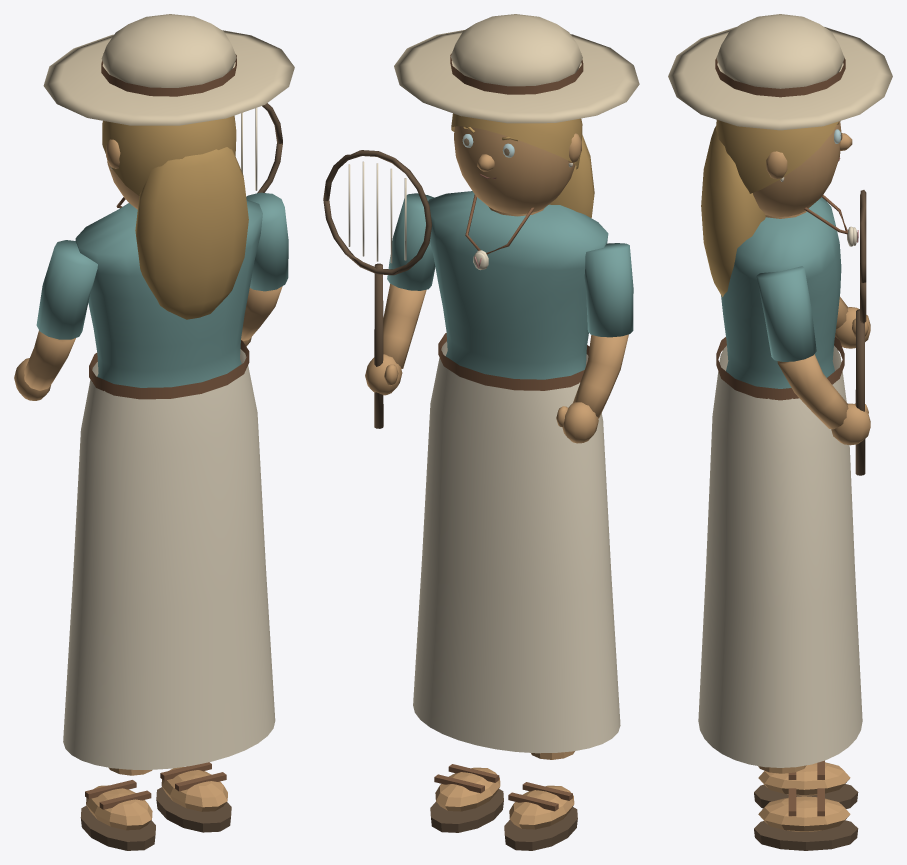
File: SM_NPC_OLA.glb
The picture shows the model from 3 angles, left to right: view 1: azimuth 30°, elevation 25°; view 2: azimuth 150°, elevation 25°; view 3: azimuth 270°, elevation 25°; orthographic projection. The views are drawn at different scales.
Visible parts, largest first — view 1: SM_NPC_OLA_BODY, SM_NPC_OLA_HAIR, SM_NPC_OLA_ARM_L, SM_NPC_OLA_ARM_R, SM_NPC_OLA_LEG_L, SM_NPC_OLA_LEG_R, SM_NPC_OLA_HEAD; view 2: SM_NPC_OLA_BODY, SM_NPC_OLA_HAIR, SM_NPC_OLA_ARM_R, SM_NPC_OLA_ARM_L, SM_NPC_OLA_HEAD, SM_NPC_OLA_LEG_L, SM_NPC_OLA_LEG_R; view 3: SM_NPC_OLA_BODY, SM_NPC_OLA_HAIR, SM_NPC_OLA_ARM_R, SM_NPC_OLA_LEG_R, SM_NPC_OLA_HEAD, SM_NPC_OLA_LEG_L, SM_NPC_OLA_ARM_L.
Part boxes in pixels (x1=…): SM_NPC_OLA_BODY: x1=63, y1=197, x2=275, y2=769; SM_NPC_OLA_HAIR: x1=43, y1=14, x2=294, y2=319; SM_NPC_OLA_ARM_L: x1=14, y1=240, x2=97, y2=400; SM_NPC_OLA_ARM_R: x1=241, y1=103, x2=288, y2=346; SM_NPC_OLA_LEG_L: x1=80, y1=767, x2=155, y2=850; SM_NPC_OLA_LEG_R: x1=156, y1=762, x2=231, y2=832; SM_NPC_OLA_HEAD: x1=106, y1=123, x2=235, y2=209; SM_NPC_OLA_BODY: x1=413, y1=191, x2=620, y2=753; SM_NPC_OLA_HAIR: x1=394, y1=14, x2=639, y2=218; SM_NPC_OLA_ARM_R: x1=323, y1=150, x2=435, y2=428; SM_NPC_OLA_ARM_L: x1=556, y1=243, x2=633, y2=443; SM_NPC_OLA_HEAD: x1=454, y1=126, x2=581, y2=214; SM_NPC_OLA_LEG_L: x1=504, y1=751, x2=577, y2=850; SM_NPC_OLA_LEG_R: x1=430, y1=764, x2=503, y2=832; SM_NPC_OLA_BODY: x1=698, y1=195, x2=862, y2=767; SM_NPC_OLA_HAIR: x1=668, y1=14, x2=892, y2=296; SM_NPC_OLA_ARM_R: x1=756, y1=190, x2=870, y2=475; SM_NPC_OLA_LEG_R: x1=754, y1=765, x2=858, y2=850; SM_NPC_OLA_HEAD: x1=753, y1=121, x2=852, y2=216; SM_NPC_OLA_LEG_L: x1=754, y1=760, x2=858, y2=808; SM_NPC_OLA_ARM_L: x1=835, y1=297, x2=870, y2=348.
Bounding box in the file's own units: 0.6811 × 1.89 × 0.4834.
